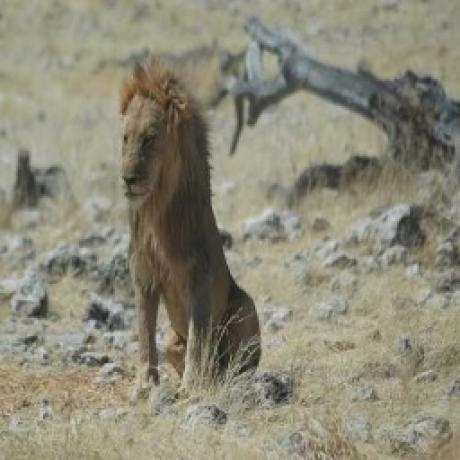Lion: (107, 48, 266, 407)
